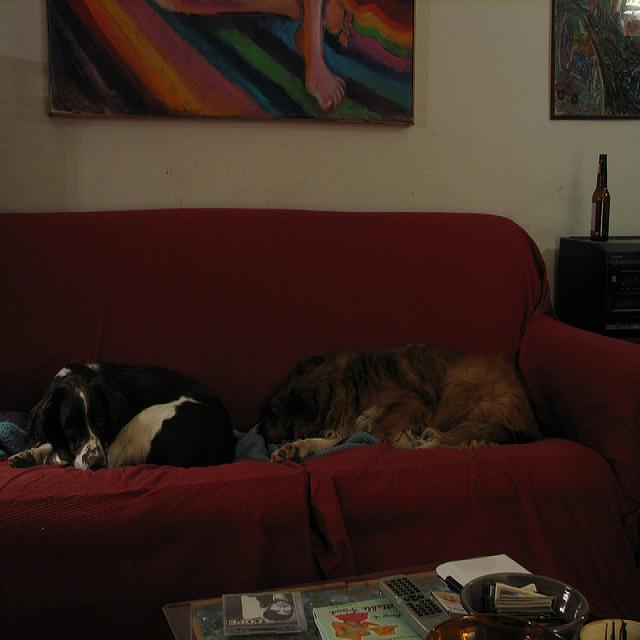Dog: (264, 330, 602, 524), (3, 320, 255, 525)
